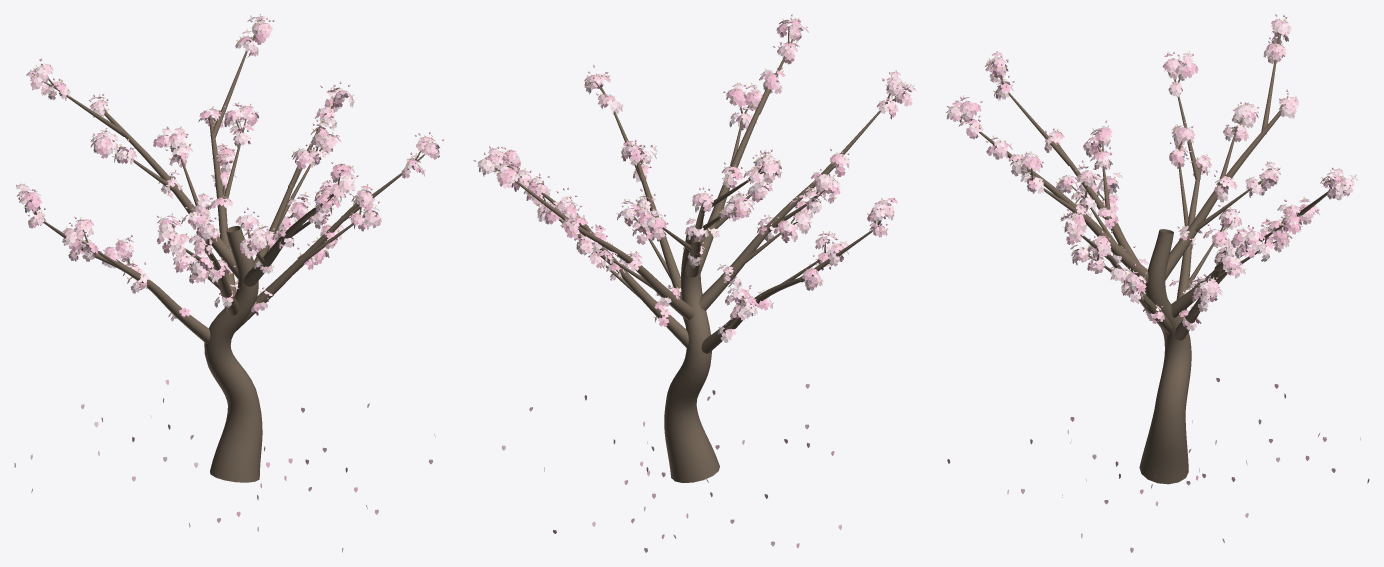
Rendered from sakura.glb.
3 views of the same model, side by side, from view 1: azimuth 30°, elevation 25°; view 2: azimuth 150°, elevation 25°; view 3: azimuth 270°, elevation 25° (orthographic). The views are drawn at different scales.
Visible parts, largest first — view 1: Bark, Petals_0, Petals_2, Petals_1, Filaments, Buds, Centers, Anthers; view 2: Bark, Petals_0, Petals_2, Petals_1, Buds, Filaments, Centers, Anthers; view 3: Bark, Petals_0, Petals_2, Petals_1, Filaments, Buds, Centers, Anthers.
Part boxes in pixels (x1,y1,x2,y2): Bark: (32,30,424,482); Petals_0: (19,16,439,552); Petals_2: (16,17,439,531); Petals_1: (14,21,435,527); Filaments: (19,14,436,314); Buds: (16,17,444,299); Centers: (20,16,435,311); Anthers: (20,14,437,315); Bark: (494,26,903,482); Petals_0: (482,19,912,529); Petals_2: (477,23,916,552); Petals_1: (486,19,912,548); Buds: (473,14,914,328); Filaments: (480,19,913,337); Centers: (481,20,912,337); Anthers: (480,18,914,328); Bark: (961,33,1334,484); Petals_0: (946,19,1350,538); Petals_2: (946,20,1360,552); Petals_1: (949,20,1369,497); Filaments: (948,19,1355,325); Buds: (947,14,1353,307); Centers: (949,20,1355,326); Anthers: (947,18,1355,320).
Size of the model in its own units: 5.28 by 5.25 by 5.08.
